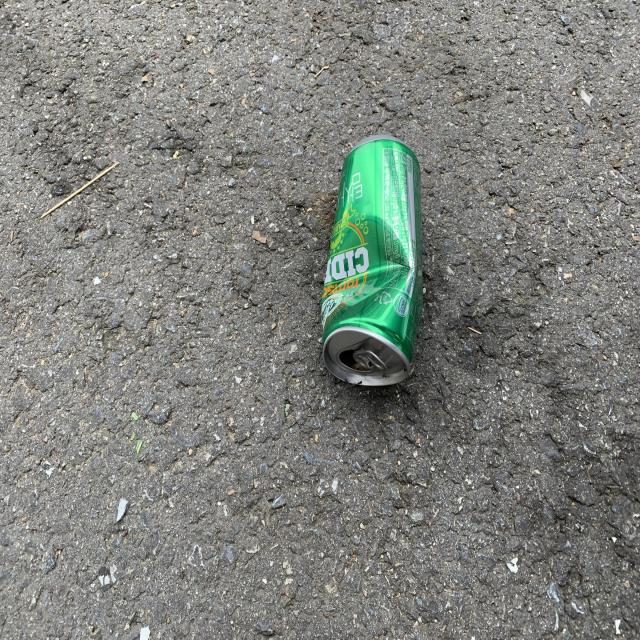can: (322, 134, 423, 386)
